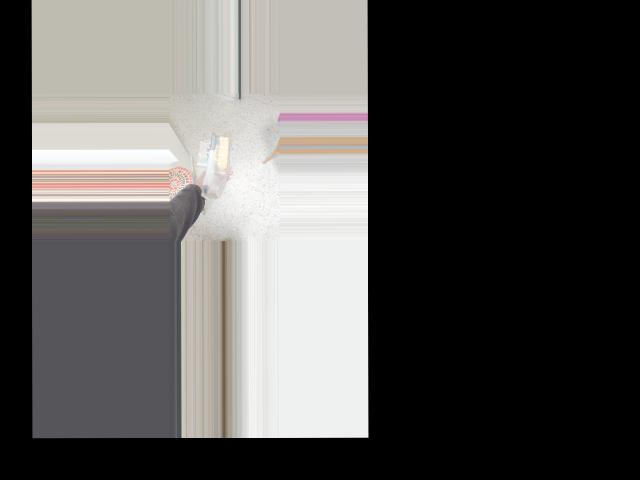cheese: (201, 134, 231, 197)
